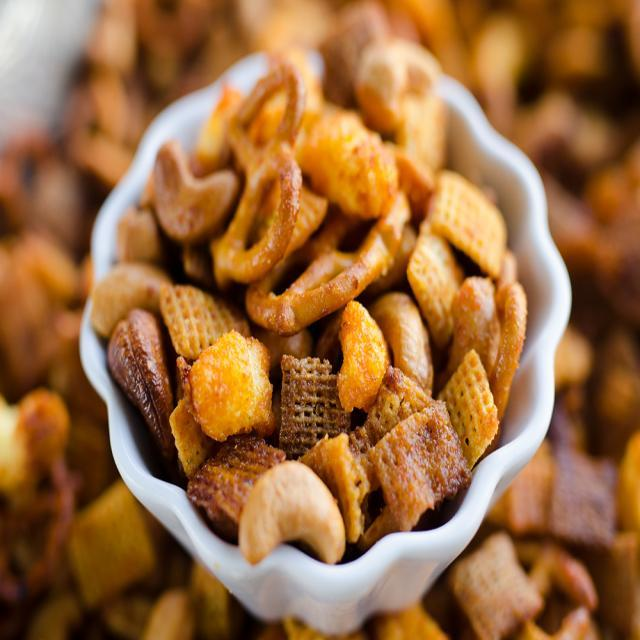Salatini: (111, 23, 537, 557)
